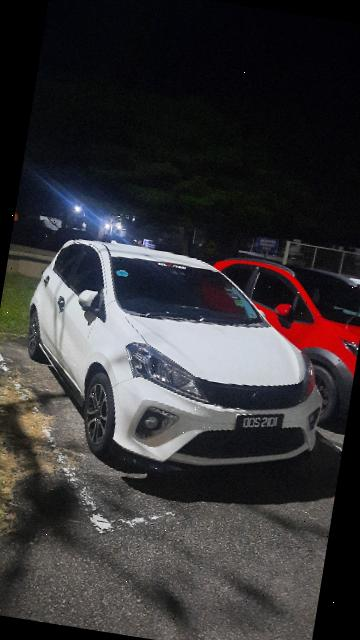License_Plate: (230, 405, 289, 437)
car: (6, 231, 345, 490)
